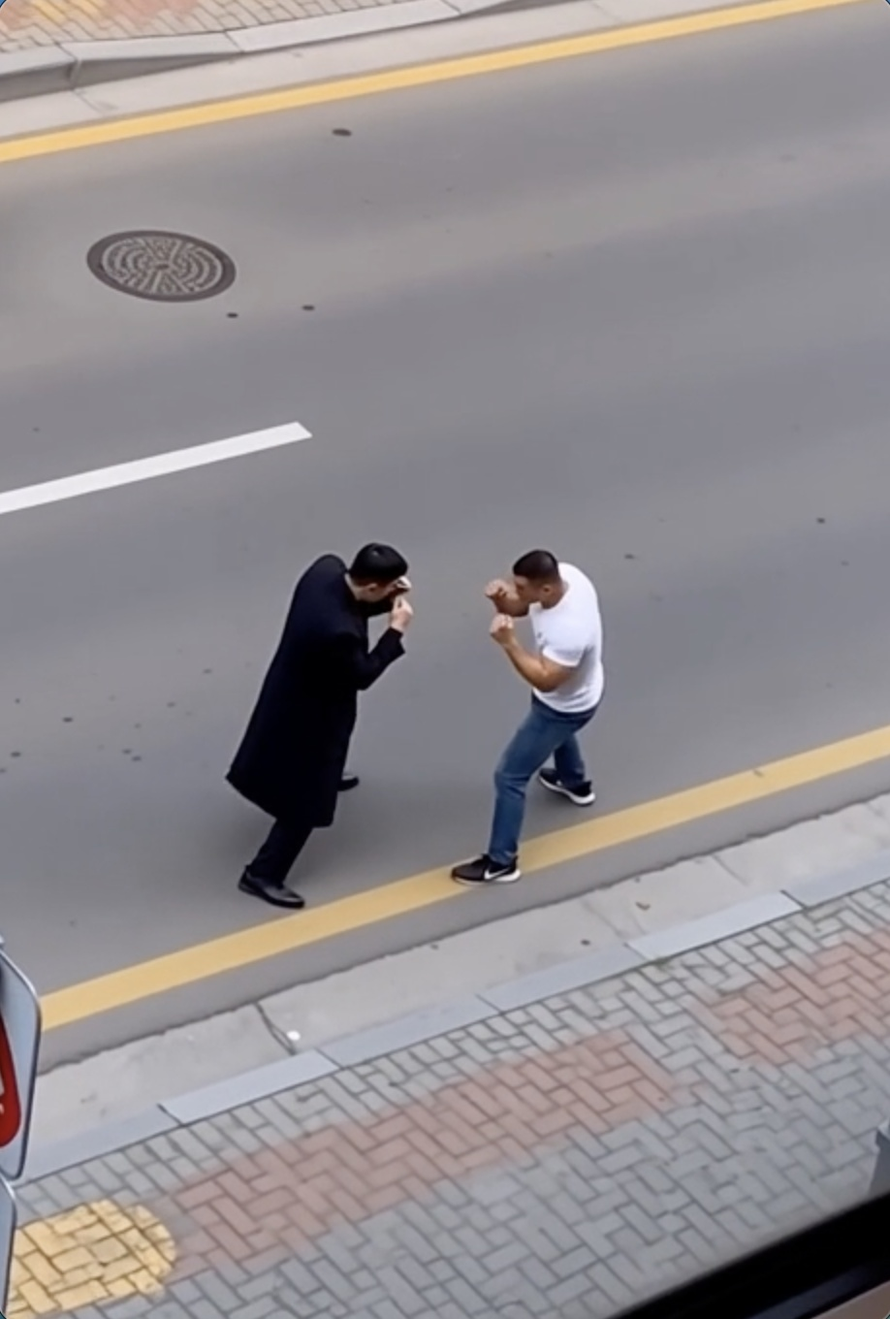Assault: (225, 543, 413, 910)
Fighting: (450, 550, 606, 884)
